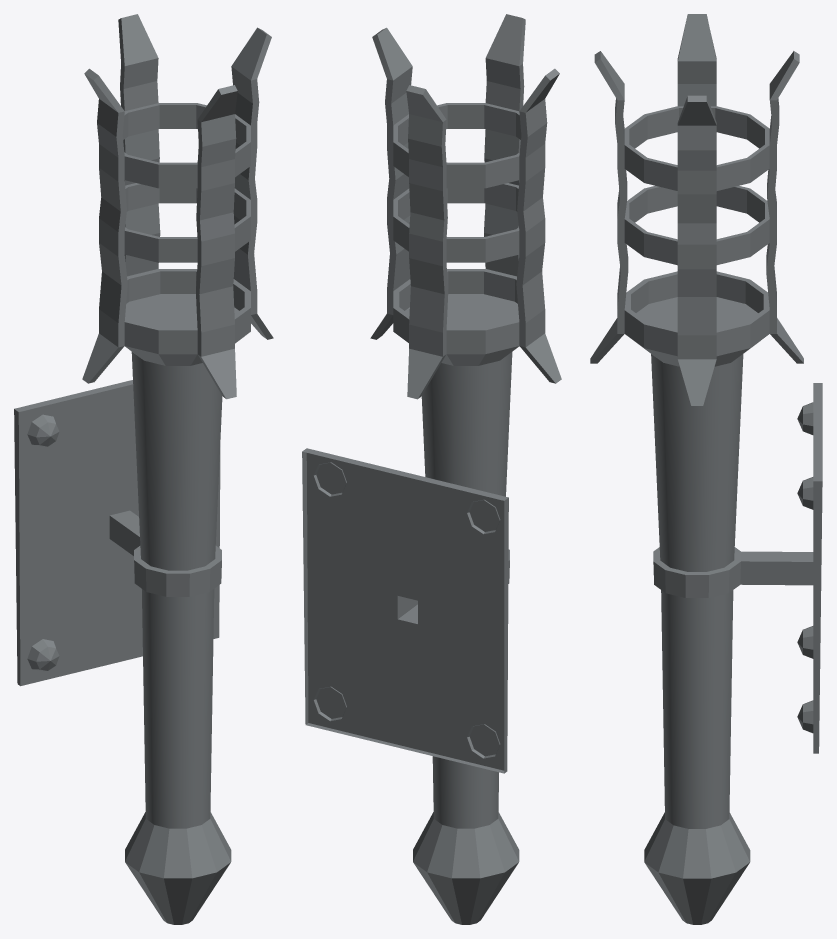
The model's file is Torche_2.FBX.
The picture shows the model from 3 angles, left to right: view 1: azimuth 30°, elevation 25°; view 2: azimuth 150°, elevation 25°; view 3: azimuth 270°, elevation 25°; orthographic projection.
Visible parts, largest first — view 1: Torche_2; view 2: Torche_2; view 3: Torche_2.
Boxes of the visible parts, <box> form: Torche_2: <box>14,14,273,924</box>; Torche_2: <box>302,14,561,924</box>; Torche_2: <box>590,14,822,924</box>.
Bounding box in the file's own units: 17.95 × 73.6 × 17.92.
1 material, 1 textured.
